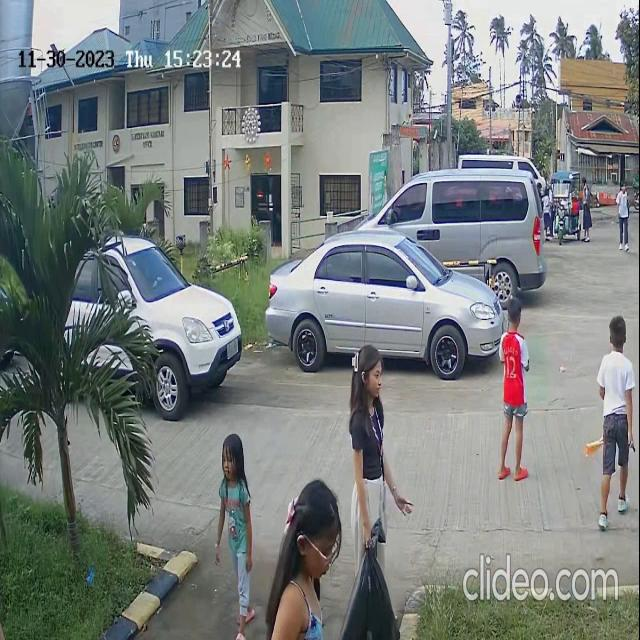garbage: (339, 528, 406, 640)
person: (341, 339, 403, 485), (275, 469, 339, 609), (212, 428, 254, 557), (591, 312, 636, 399), (500, 306, 531, 398)
